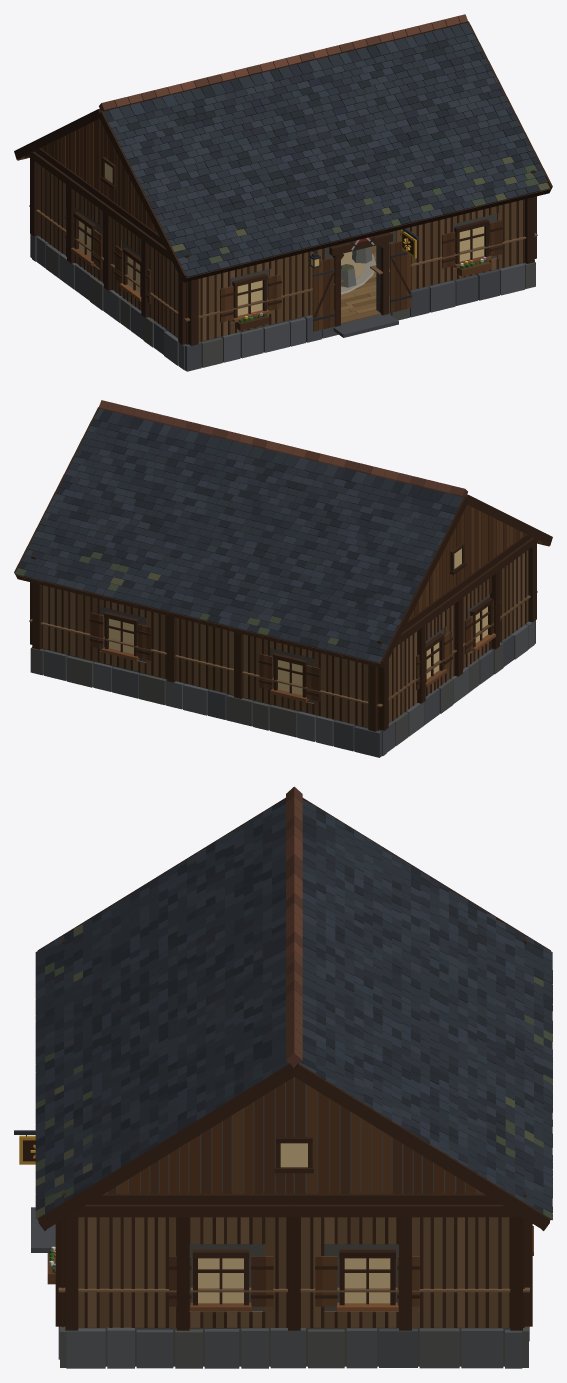
Rendered from trainer.glb.
3 renders of one model, top to bottom at view 1: azimuth 30°, elevation 25°; view 2: azimuth 150°, elevation 25°; view 3: azimuth 270°, elevation 25°, orthographic. The views are drawn at different scales.
Visible parts, largest first — view 1: trainer_shell, trainer_interior, trainer_glass, trainer_cap; view 2: trainer_shell, trainer_glass, trainer_cap; view 3: trainer_shell, trainer_glass, trainer_cap.
Boxes of the visible parts, left/top/right/bottom form: trainer_shell: left=14, top=14, right=552, bottom=371; trainer_interior: left=341, top=245, right=380, bottom=323; trainer_glass: left=79, top=163, right=484, bottom=315; trainer_cap: left=29, top=205, right=537, bottom=321; trainer_shell: left=14, top=400, right=552, bottom=757; trainer_glass: left=109, top=548, right=487, bottom=695; trainer_cap: left=29, top=591, right=537, bottom=707; trainer_shell: left=14, top=786, right=552, bottom=1368; trainer_glass: left=198, top=1143, right=390, bottom=1303; trainer_cap: left=58, top=1287, right=529, bottom=1292.
Size of the model in its own units: 13.94 by 7.74 by 11.78.
